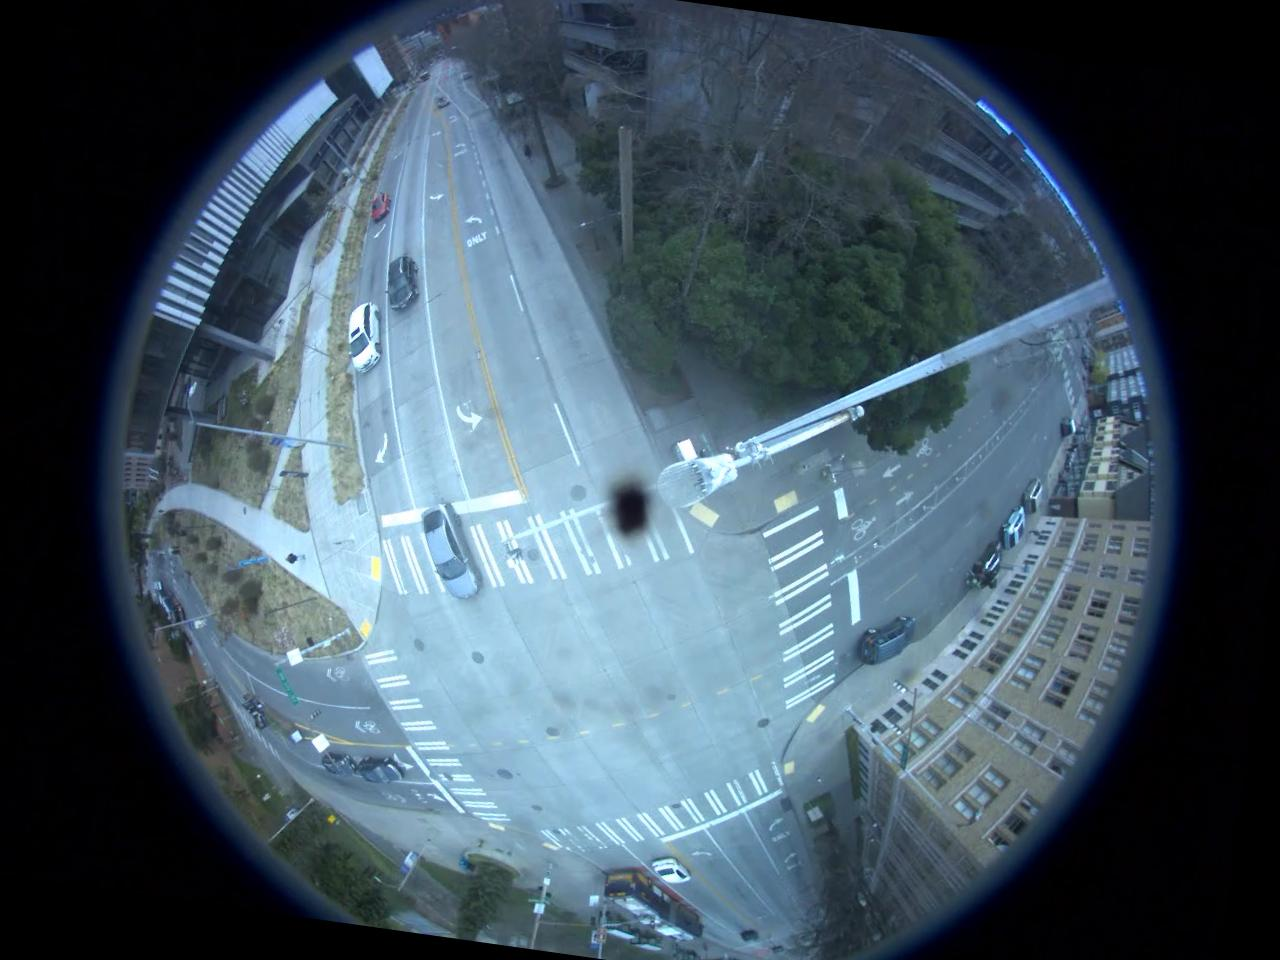bus: (598, 868, 708, 944)
car: (408, 497, 492, 603), (338, 303, 386, 378), (852, 611, 916, 667), (381, 252, 423, 315), (968, 540, 1004, 592), (648, 854, 692, 888), (356, 756, 399, 788), (1018, 474, 1050, 516), (365, 188, 397, 227), (318, 753, 357, 784), (998, 511, 1029, 550)
person: (278, 550, 306, 568)
